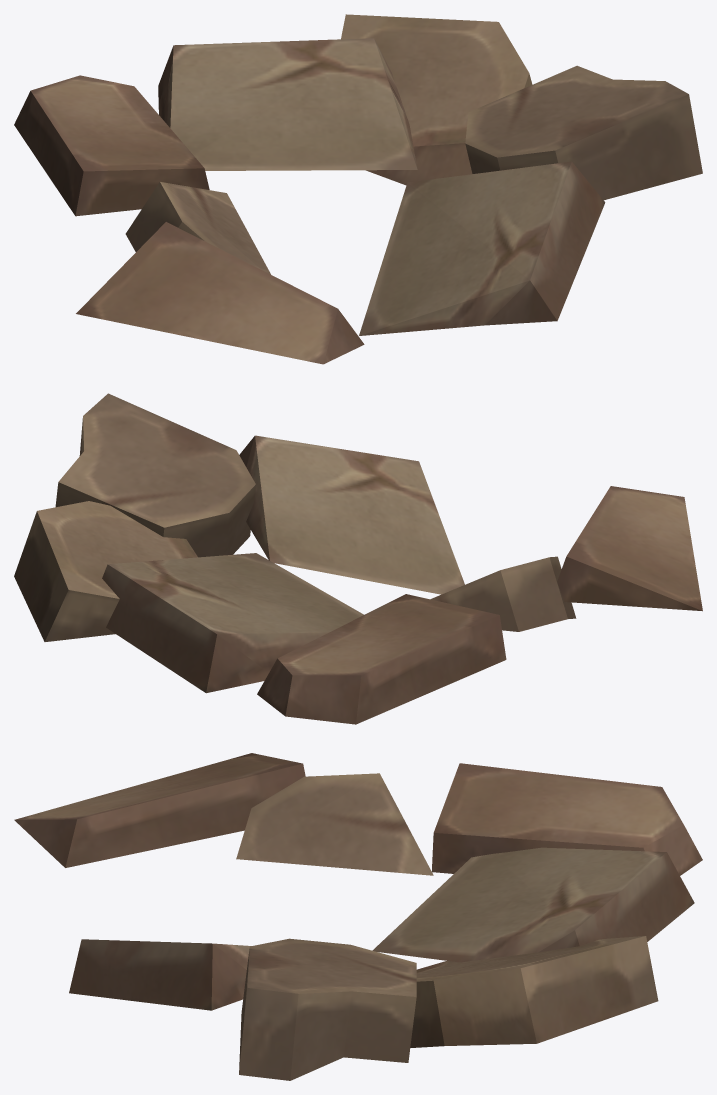
The model's file is Steps02_Build_LostTemple_006.FBX.
3 views of the same model, one above another, from view 1: azimuth 30°, elevation 25°; view 2: azimuth 150°, elevation 25°; view 3: azimuth 270°, elevation 25° (orthographic). The views are drawn at different scales.
Visible parts, largest first — view 1: Steps02_Build_LostTemple_006; view 2: Steps02_Build_LostTemple_006; view 3: Steps02_Build_LostTemple_006.
Part boxes in pixels (box(x1,y1,x2,y2)): Steps02_Build_LostTemple_006: box(14, 14, 702, 364); Steps02_Build_LostTemple_006: box(14, 393, 702, 724); Steps02_Build_LostTemple_006: box(14, 753, 702, 1080).
Bounding box in the file's own units: 104 × 22.53 × 95.82.
Materials: 1 (1 with a texture image).
